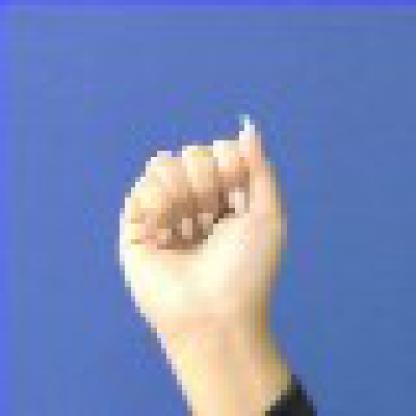zero: (81, 100, 330, 381)
